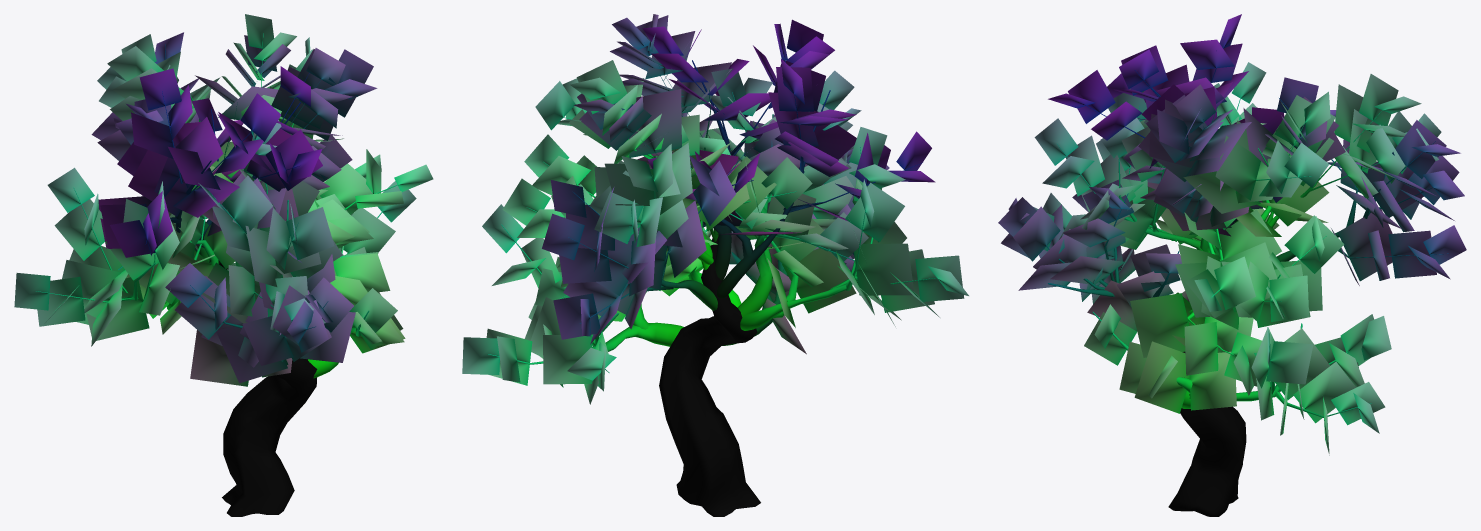
Rendered from SM_DeadTree1.fbx.
The picture shows the model from 3 angles, left to right: view 1: azimuth 30°, elevation 25°; view 2: azimuth 150°, elevation 25°; view 3: azimuth 270°, elevation 25°; orthographic projection. The views are drawn at different scales.
Parts seen in each view (by area): view 1: Tree_1, DeadTreeTrue; view 2: Tree_1, DeadTreeTrue; view 3: Tree_1, DeadTreeTrue.
Part boxes in pixels (x1=…): Tree_1: x1=14, y1=14, x2=433, y2=386; DeadTreeTrue: x1=36, y1=33, x2=397, y2=516; Tree_1: x1=462, y1=14, x2=968, y2=404; DeadTreeTrue: x1=488, y1=42, x2=936, y2=516; Tree_1: x1=998, y1=14, x2=1466, y2=455; DeadTreeTrue: x1=1025, y1=68, x2=1448, y2=516.
Bounding box in the file's own units: 427 × 419 × 396.
